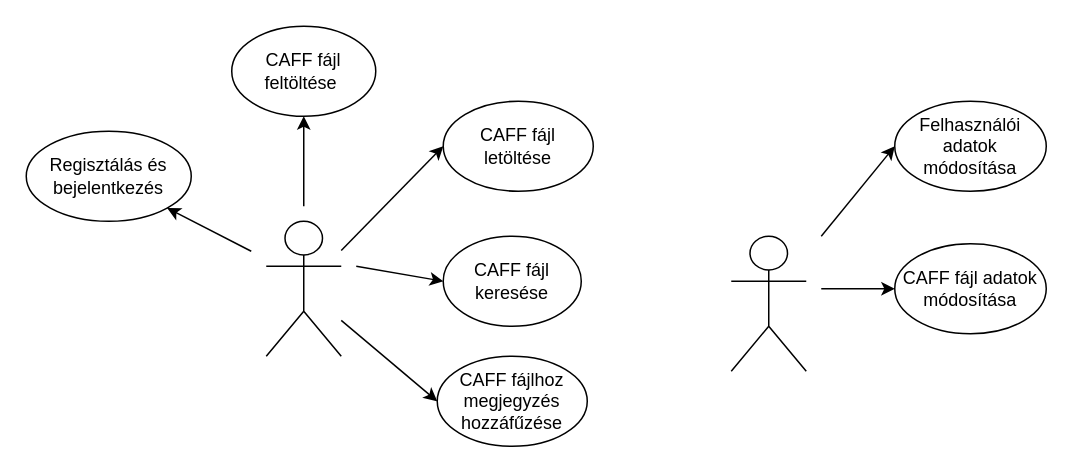
The diagram is 1073 pixels wide and 473 high, and some of its shapes have lost their labels. The centre of each missing label's shape, as x and y in pixels:
Adminisztrátor: the point at 768,303
Felhasználó: the point at 303,288
